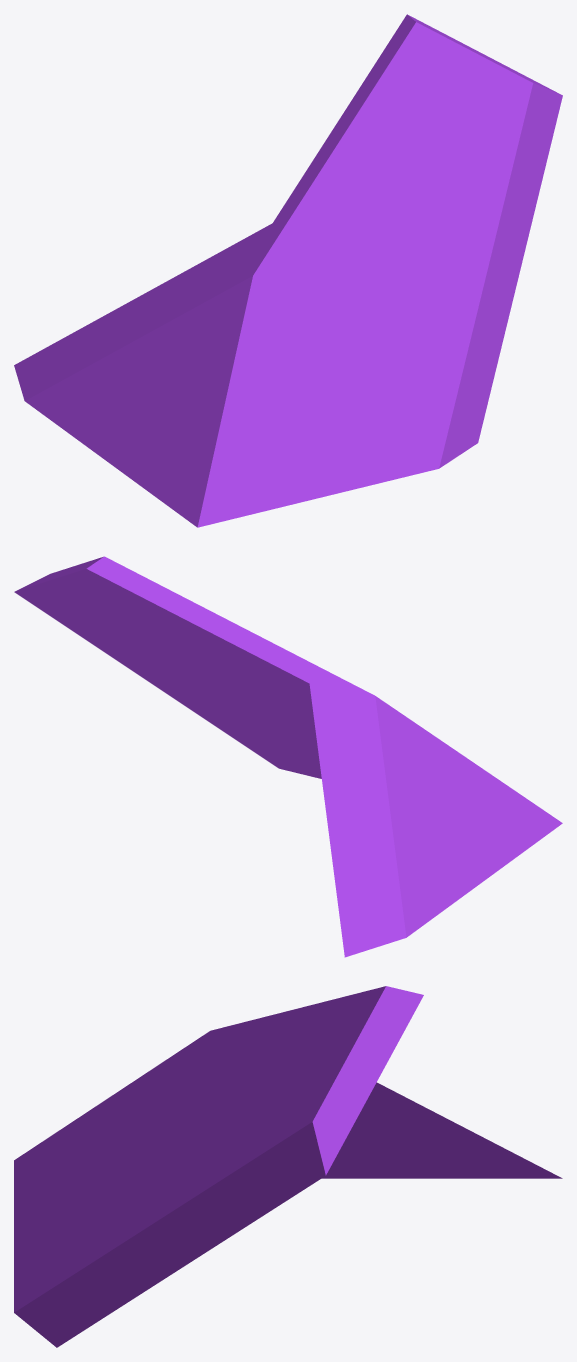
The model's file is Window_26_18_chunks.fbx.
The picture shows the model from 3 angles, top to bottom: view 1: azimuth 30°, elevation 25°; view 2: azimuth 150°, elevation 25°; view 3: azimuth 270°, elevation 25°; orthographic projection. The views are drawn at different scales.
Visible parts, largest first — view 1: Window_26_18_0; view 2: Window_26_18_0; view 3: Window_26_18_0.
Boxes of the visible parts, box(x1,y1,x2,y2) form: Window_26_18_0: box(14, 14, 562, 527); Window_26_18_0: box(14, 556, 562, 957); Window_26_18_0: box(14, 986, 562, 1347).
Size of the model in its own units: 472 by 289 by 357.
